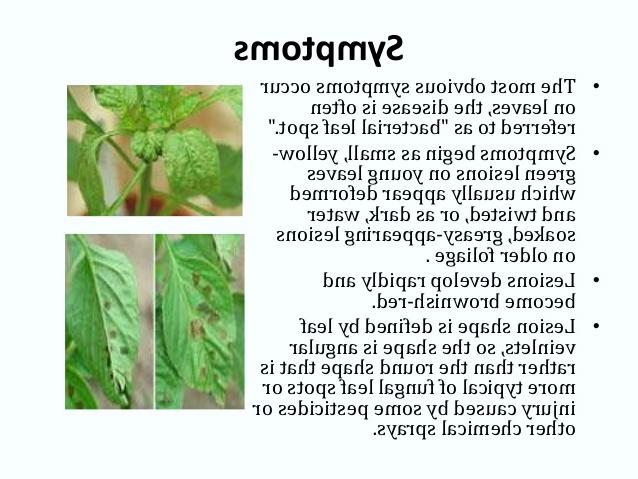Tomato leaf bacterial spot: (69, 236, 142, 401), (162, 238, 234, 400), (158, 131, 221, 206)
